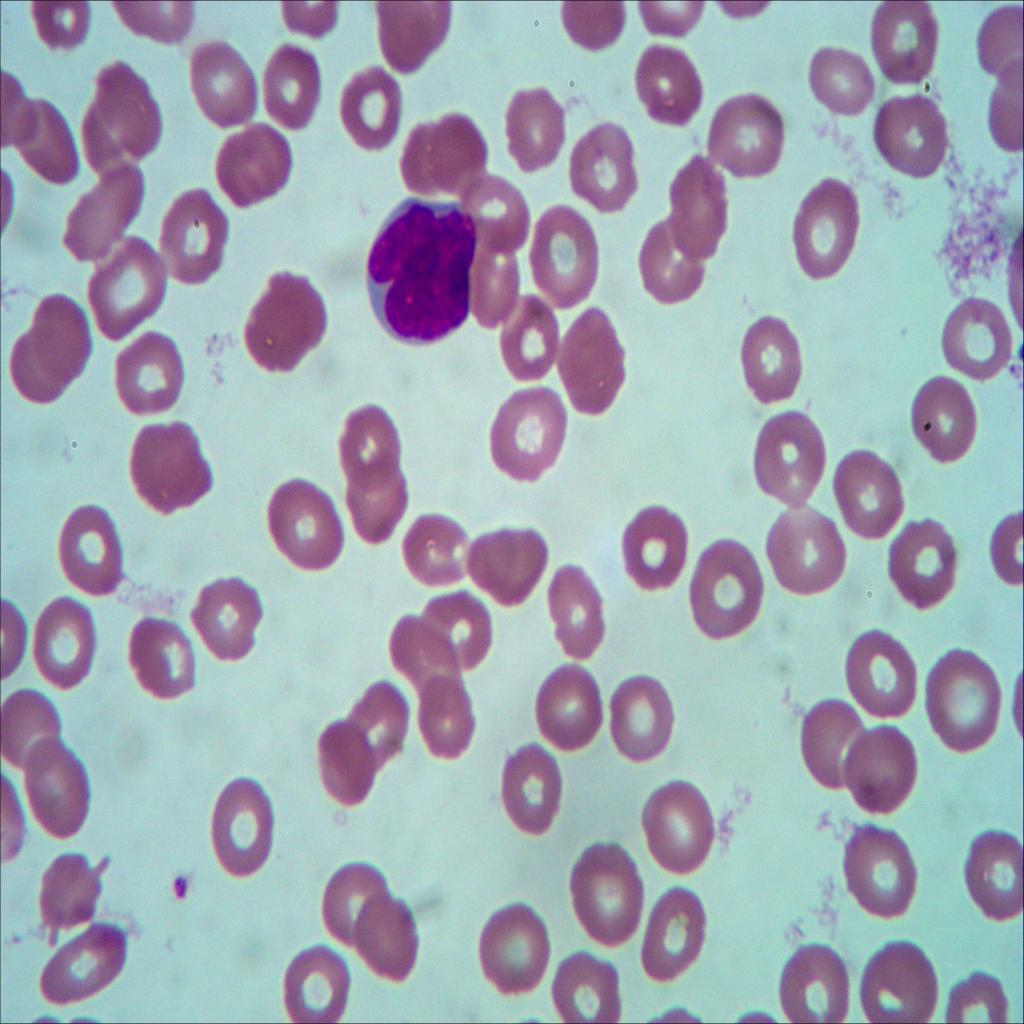Eritrosit: (238, 268, 342, 382), (922, 639, 1010, 758), (80, 230, 174, 341), (557, 838, 648, 948), (554, 302, 631, 428), (204, 771, 283, 888), (628, 214, 716, 319), (123, 419, 220, 512), (840, 818, 922, 928), (482, 379, 573, 477), (831, 439, 912, 549), (767, 494, 851, 600), (60, 154, 145, 258), (30, 928, 135, 1012), (398, 102, 485, 203), (479, 278, 563, 382), (20, 742, 104, 845), (842, 722, 925, 826), (787, 687, 870, 791), (184, 566, 265, 672), (53, 493, 132, 601), (531, 202, 604, 318), (872, 81, 954, 184), (686, 536, 764, 642), (937, 287, 1024, 382), (316, 853, 397, 955), (127, 609, 202, 717), (473, 901, 560, 994), (840, 616, 916, 722), (793, 178, 869, 284), (541, 558, 613, 668), (217, 114, 298, 210), (0, 94, 83, 187), (913, 363, 986, 468), (267, 479, 346, 576), (185, 30, 258, 134), (732, 306, 805, 409), (623, 43, 709, 130), (154, 186, 230, 284), (884, 510, 960, 608), (640, 777, 716, 875), (471, 516, 550, 608), (708, 94, 790, 182), (600, 674, 676, 768), (111, 330, 196, 414), (502, 737, 568, 845), (754, 404, 828, 500), (773, 940, 857, 1024), (864, 937, 945, 1024), (454, 160, 530, 252), (400, 503, 476, 595), (561, 124, 642, 210), (335, 62, 406, 160), (30, 604, 100, 703), (387, 610, 465, 698), (667, 151, 737, 249), (534, 663, 610, 753), (642, 883, 709, 985), (496, 81, 570, 173), (258, 29, 322, 135), (805, 33, 877, 127), (90, 59, 164, 149), (7, 324, 79, 416), (866, 0, 940, 89), (314, 714, 382, 810), (336, 462, 411, 547), (965, 823, 1024, 931), (417, 588, 492, 672), (415, 668, 481, 763), (0, 690, 67, 782), (548, 945, 626, 1024), (278, 936, 348, 1024), (74, 98, 144, 184), (341, 403, 405, 495), (350, 682, 410, 780), (456, 236, 522, 325), (29, 292, 96, 377), (371, 2, 449, 74), (34, 852, 109, 926), (353, 897, 417, 983), (629, 508, 689, 594)
Limfoblast: (355, 190, 479, 352)
Platelet: (170, 863, 208, 902)
